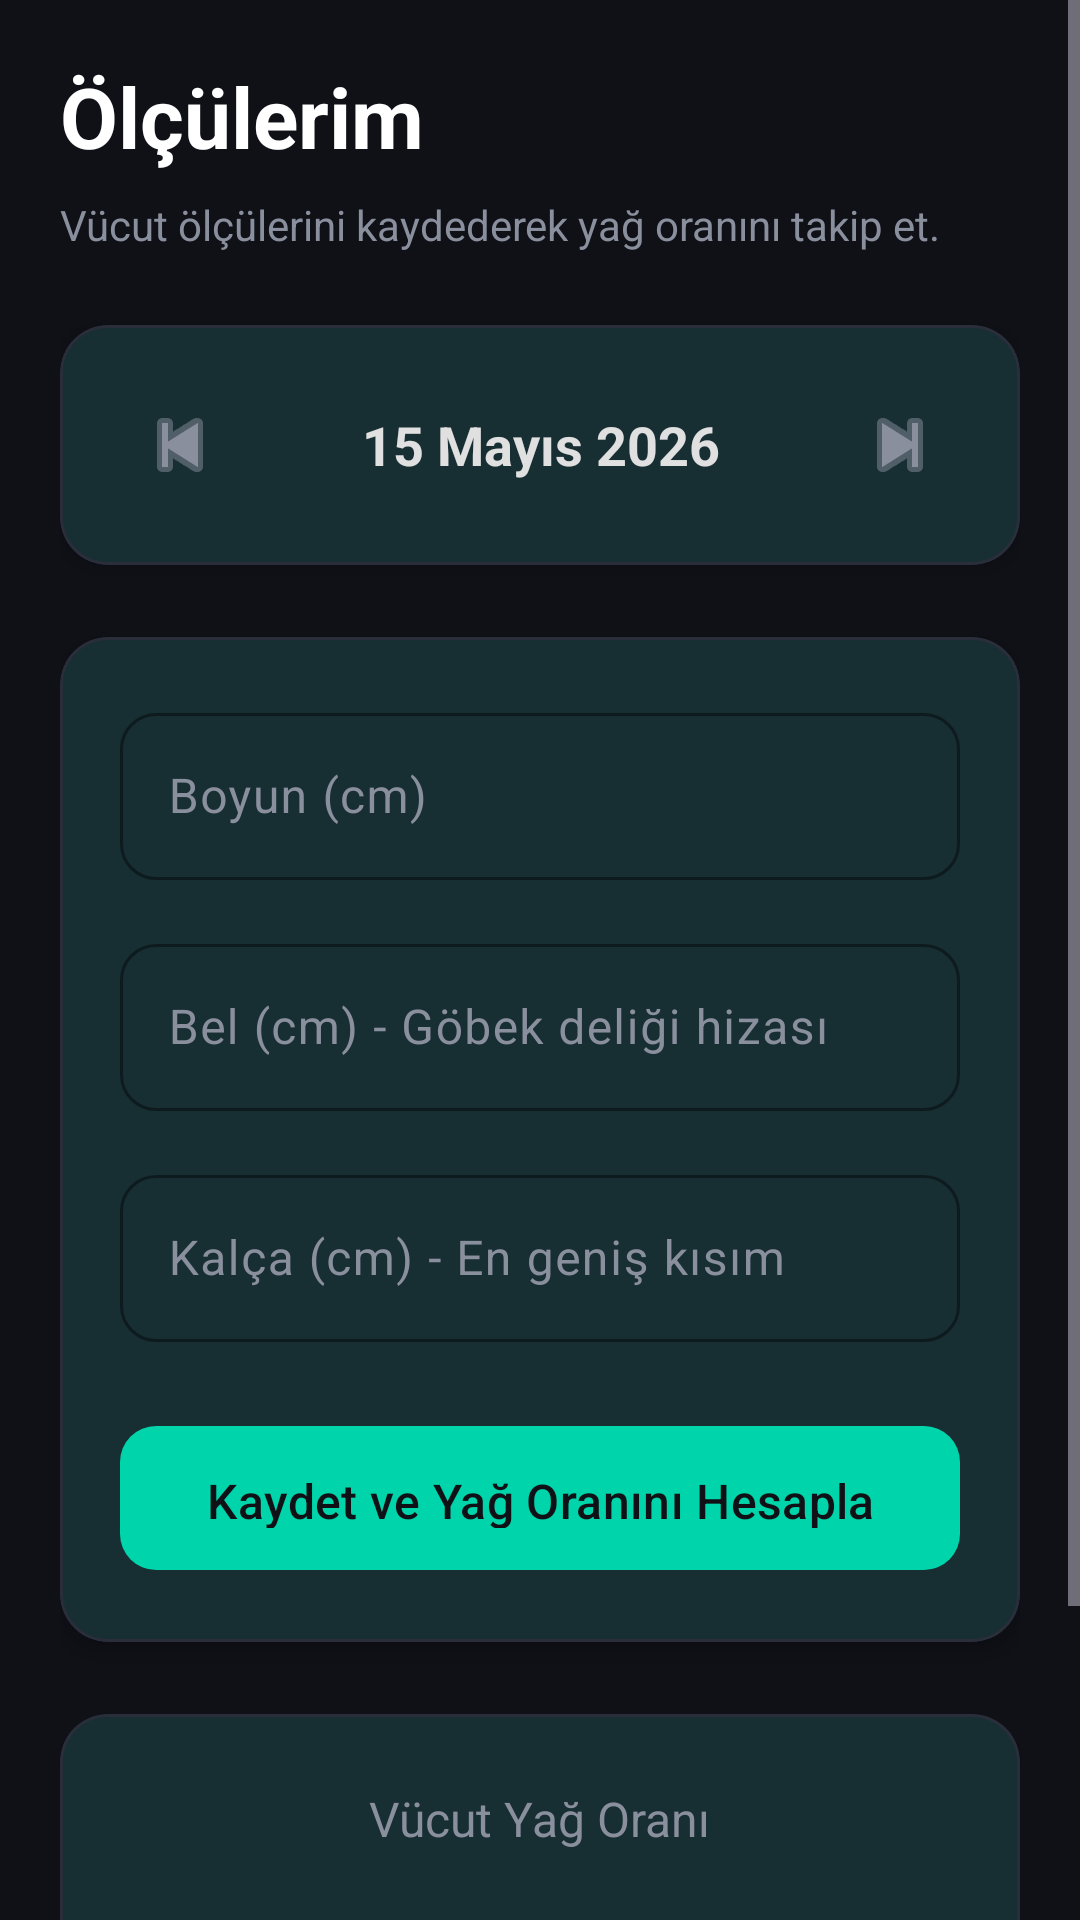

Point at icon controls on the screen. Image size 1080px×1920px, points as [x,y].
next: [900,445]
previous: [180,445]
